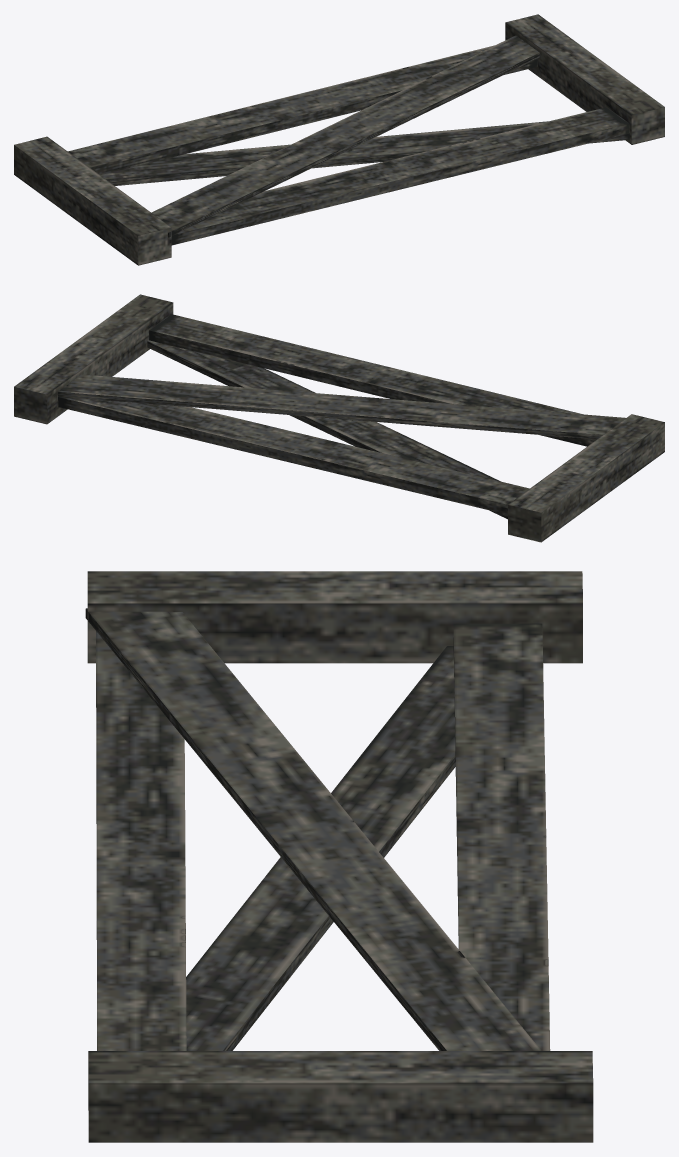
File: SM_EC_Fence_Gate_0.fbx
The picture shows the model from 3 angles, top to bottom: view 1: azimuth 30°, elevation 25°; view 2: azimuth 150°, elevation 25°; view 3: azimuth 270°, elevation 25°; orthographic projection. The views are drawn at different scales.
Visible parts, largest first — view 1: SM_EC_Fence_Gate_0; view 2: SM_EC_Fence_Gate_0; view 3: SM_EC_Fence_Gate_0.
Boxes of the visible parts, x1,y1,x2,y2 form: SM_EC_Fence_Gate_0: [14, 14, 664, 265]; SM_EC_Fence_Gate_0: [14, 294, 664, 542]; SM_EC_Fence_Gate_0: [85, 571, 593, 1142].
Size of the model in its own units: 3.68 by 1.54 by 0.2.
